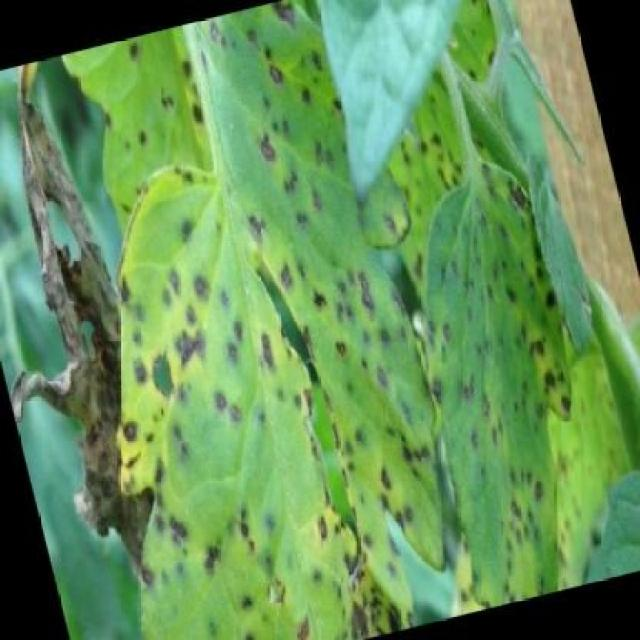Septoria leaf spot: (0, 0, 497, 638), (373, 121, 639, 607)
